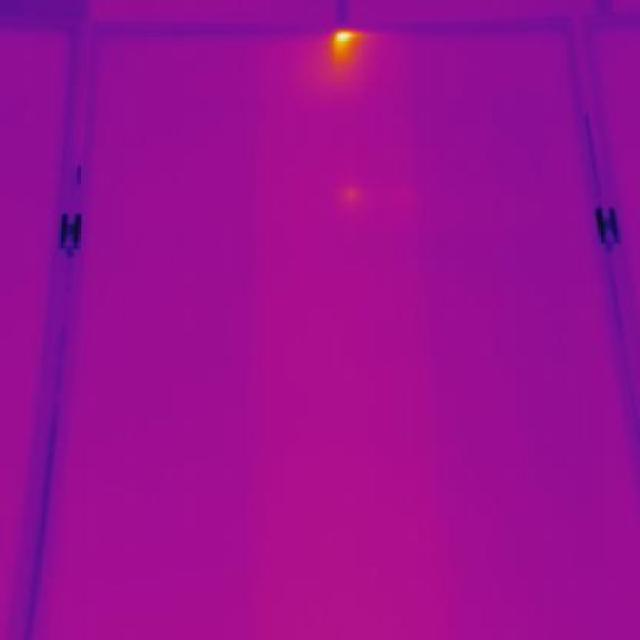hotspot: (314, 26, 364, 68)
